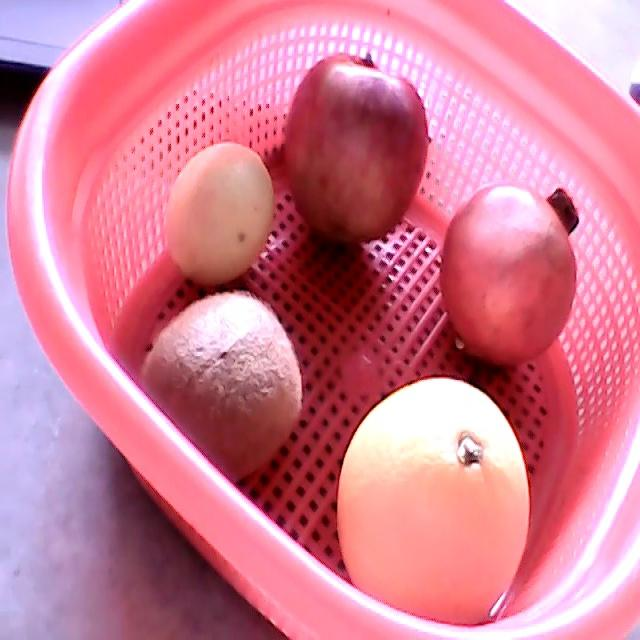apple: (282, 53, 431, 244)
kiwi: (139, 289, 303, 483)
lemon: (164, 142, 275, 286)
orange: (336, 376, 530, 625)
pomegranate: (438, 183, 579, 367)
